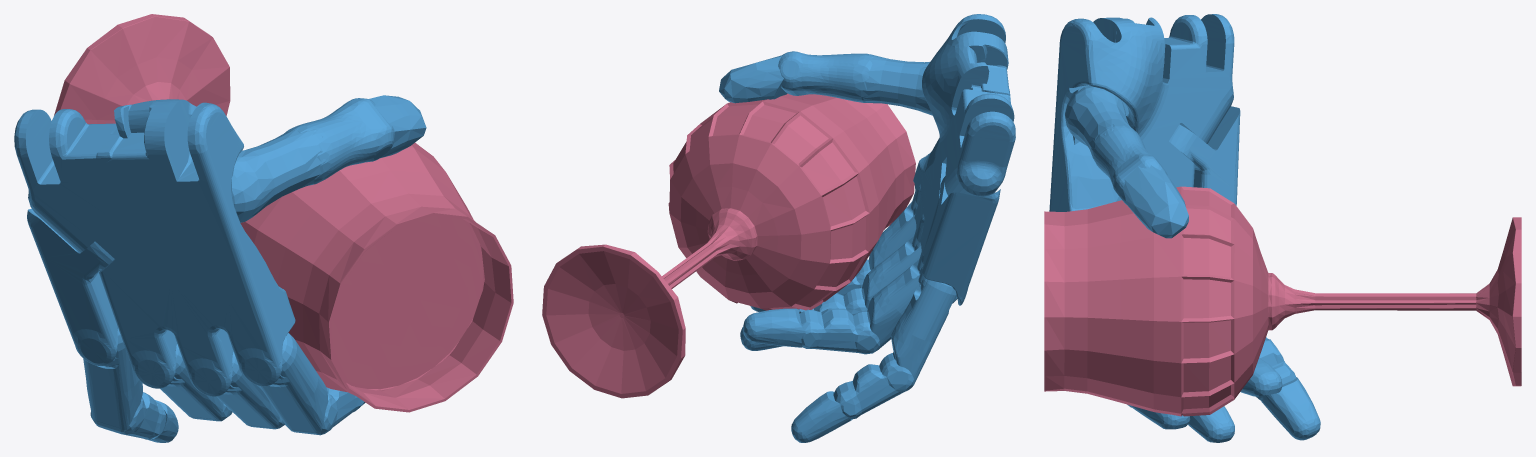
The picture shows the model from 3 angles, left to right: view 1: azimuth 30°, elevation 25°; view 2: azimuth 150°, elevation 25°; view 3: azimuth 270°, elevation 25°; orthographic projection. The views are drawn at different scales.
Visible parts, largest first — view 1: 3; view 2: 3; view 3: 3.
Boxes of the visible parts, x1,y1,x2,y2 form: 3: [14, 14, 513, 442]; 3: [542, 14, 1015, 442]; 3: [1044, 14, 1521, 442].
Size of the model in its own units: 0.1776 by 0.179 by 0.2031.
